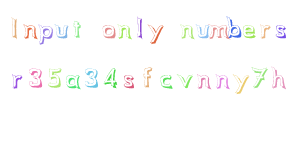3: (83, 66, 100, 89), (27, 66, 44, 88)
4: (103, 66, 119, 90)
5: (48, 67, 62, 88)
7: (251, 65, 267, 88)
I: (8, 15, 26, 40)
a: (65, 73, 81, 89)
b: (226, 14, 242, 39)
c: (158, 72, 173, 89)
e: (241, 22, 256, 39)
f: (140, 65, 154, 88)
h: (271, 64, 287, 89)
l: (133, 16, 145, 39)
m: (208, 23, 228, 40)
n: (22, 20, 38, 40), (195, 72, 212, 90), (214, 71, 230, 90), (179, 22, 195, 40), (117, 23, 133, 40)
o: (100, 23, 116, 40)
p: (37, 23, 53, 46)
r: (10, 72, 23, 90), (259, 22, 271, 40)
s: (274, 22, 288, 40), (122, 73, 135, 90)
t: (71, 17, 82, 38)
u: (54, 22, 69, 39), (195, 23, 210, 40)
v: (176, 72, 193, 89)
y: (146, 23, 164, 45), (233, 73, 250, 96)
